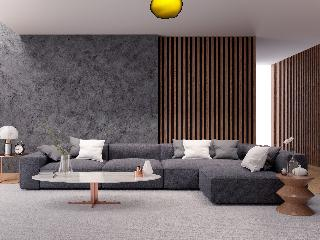lemon: (151, 0, 182, 18)
